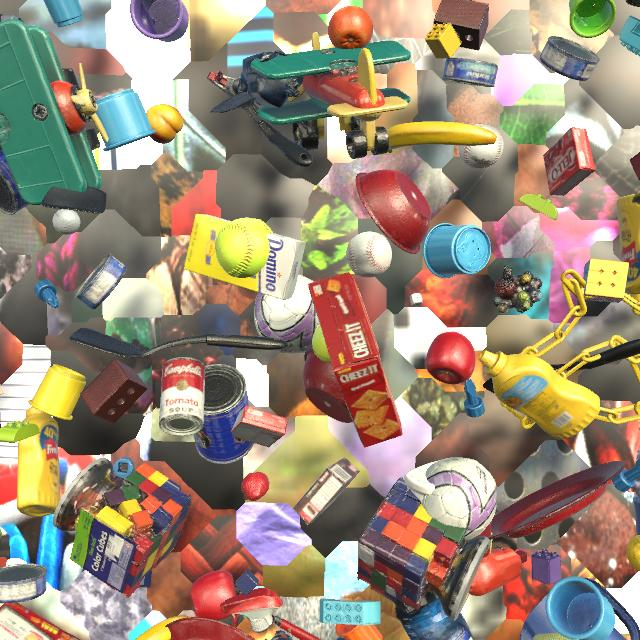ycb_002_master_chef_can: (193, 364, 254, 464), (0, 151, 29, 215)
ycb_003_cracker_box: (308, 272, 402, 447), (0, 603, 81, 640)
ycb_004_sugar_box: (184, 214, 306, 300)
ycb_005_tomato_soup_can: (159, 357, 206, 436)
ycb_006_mustard_bottle: (479, 350, 600, 440), (17, 407, 61, 517), (617, 194, 640, 302)
ycb_007_tuna_fish_can: (75, 254, 127, 310), (540, 36, 600, 81), (0, 563, 47, 604), (442, 57, 498, 87)
ycb_008_pudding_box: (293, 458, 360, 525)
ycb_009_gelatin_box: (543, 127, 595, 196), (231, 406, 288, 447)
ycb_010_potted_meat_can: (632, 190, 640, 205)
ycb_011_banana: (387, 122, 497, 153), (135, 615, 189, 640)
ycb_012_strawberry: (241, 472, 269, 501)
ycb_013_apple: (426, 332, 476, 384), (190, 570, 236, 621)
ycb_014_lemon: (627, 535, 640, 572)
ycb_015_peach: (146, 104, 184, 144)
ycb_017_orange: (328, 6, 373, 49)
